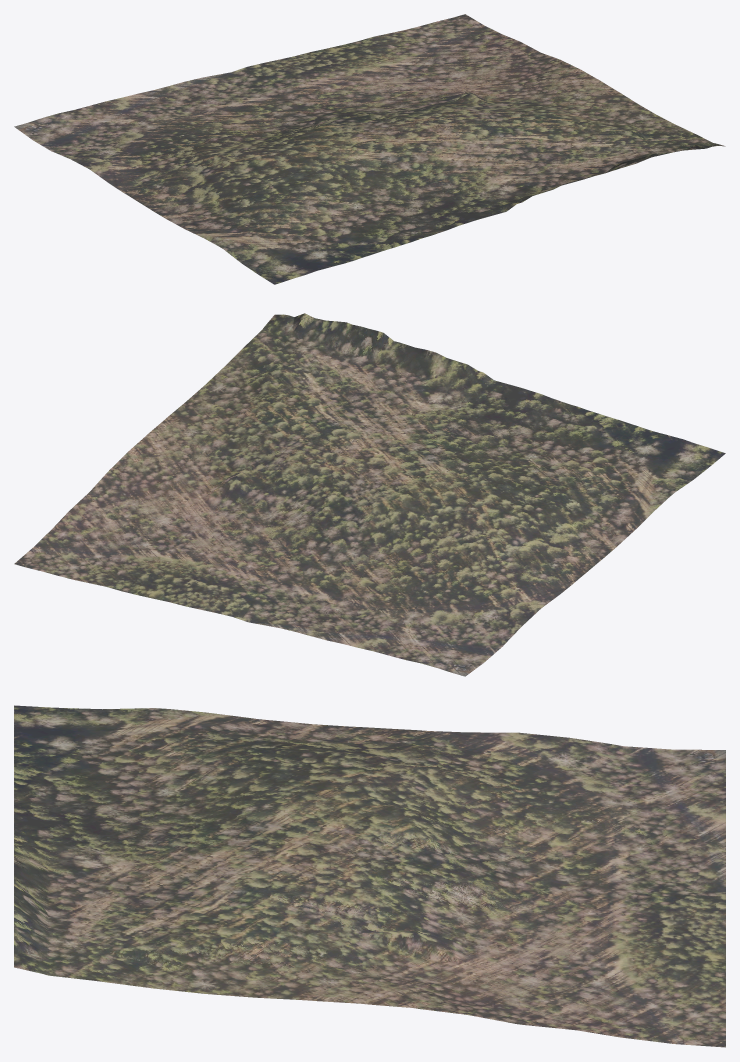
File: CM_Terrain_24488820_6822660.fbx
3 views of the same model, one above another, from view 1: azimuth 30°, elevation 25°; view 2: azimuth 150°, elevation 25°; view 3: azimuth 270°, elevation 25° (orthographic). The views are drawn at different scales.
Parts seen in each view (by area): view 1: CM_Terrain_24488820_6822660_LOD0; view 2: CM_Terrain_24488820_6822660_LOD0; view 3: CM_Terrain_24488820_6822660_LOD0.
Boxes of the visible parts, x1,y1,x2,y2 form: CM_Terrain_24488820_6822660_LOD0: (14,14,725,284); CM_Terrain_24488820_6822660_LOD0: (14,313,725,676); CM_Terrain_24488820_6822660_LOD0: (14,705,725,1047).
Size of what is drawn, in the model's own units: 205 by 30.81 by 205.
